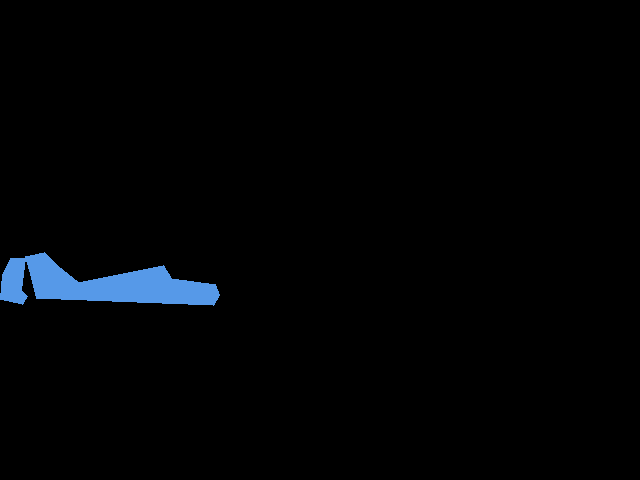Airplane: (25, 252, 220, 305), (0, 257, 27, 305)
